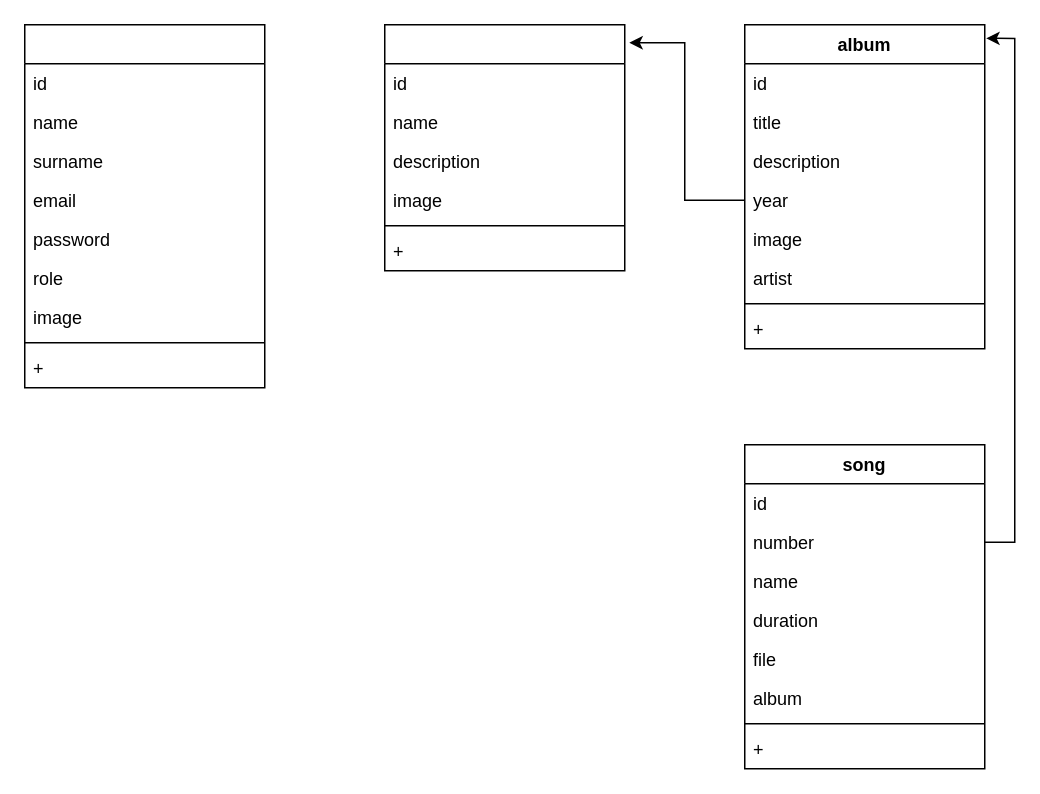
Image size: 1040x794. Some labels were removed from this diagram. The box of each missing label's shape, as (x1, y1, x2, y2) in pixels:
artista: (383, 23, 625, 271)
user: (23, 23, 265, 388)
